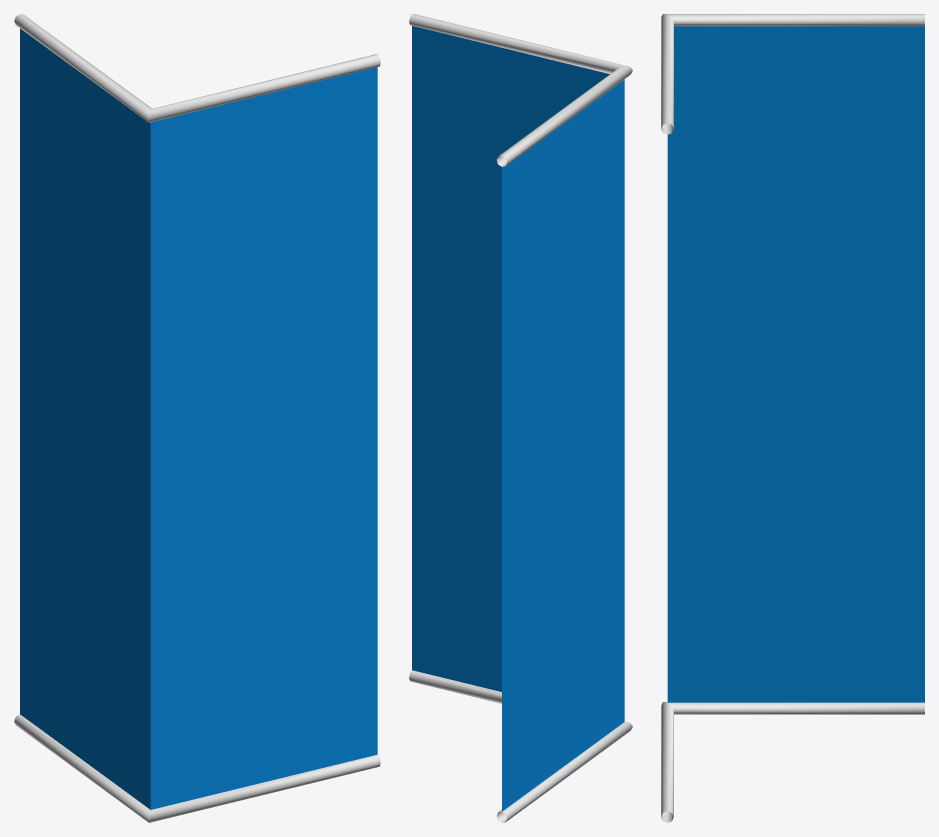
File: Glass_Verti-corn.fbx
3 renders of one model, left to right at view 1: azimuth 30°, elevation 25°; view 2: azimuth 150°, elevation 25°; view 3: azimuth 270°, elevation 25°, orthographic. The views are drawn at different scales.
Parts seen in each view (by area): view 1: Wall_Glass_CornerOut.001; view 2: Wall_Glass_CornerOut.001; view 3: Wall_Glass_CornerOut.001.
Boxes of the visible parts, bbox=[...] form: Wall_Glass_CornerOut.001: bbox=[14, 14, 380, 822]; Wall_Glass_CornerOut.001: bbox=[409, 14, 632, 822]; Wall_Glass_CornerOut.001: bbox=[661, 14, 924, 822].
Bounding box in the file's own units: 103 × 300 × 102.
